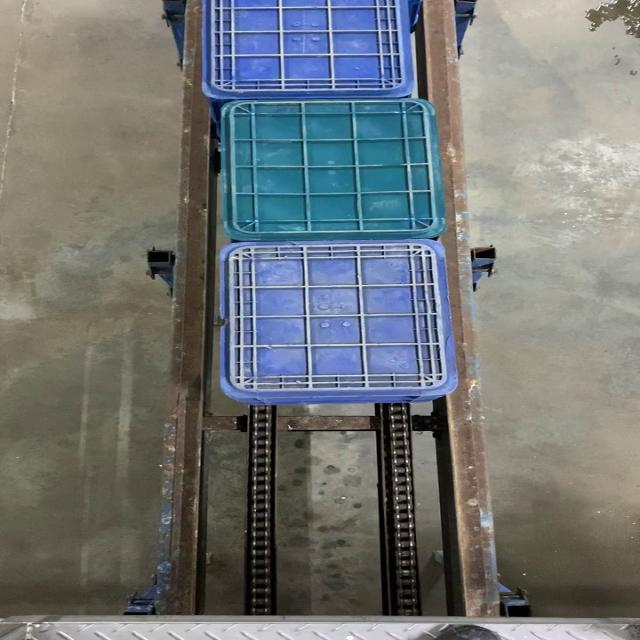Box: (215, 243, 463, 401), (219, 100, 448, 242)
